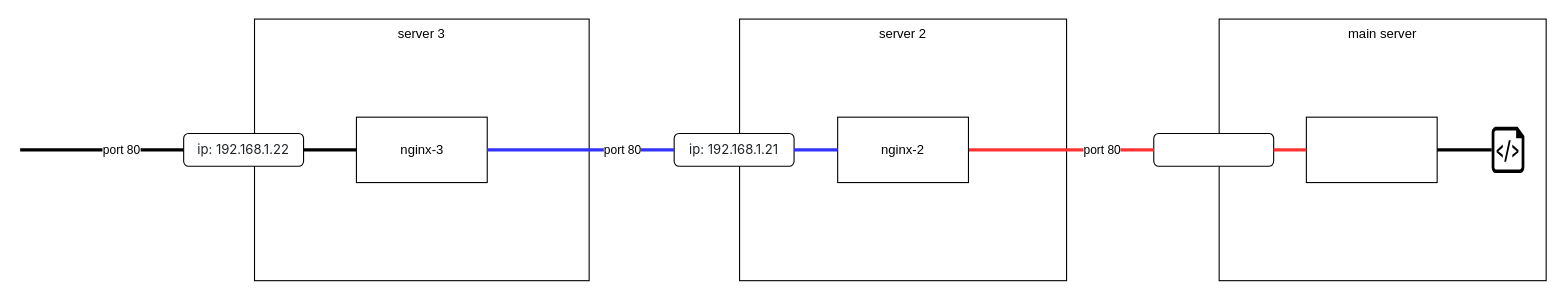
The diagram is 1565 pixels wide and 300 high, and some of its shapes have lost their labels. The box of each missing label's shape, as (x1, y1, x2, y2) in pixels:
ip: 192.168.1.10: (1153, 132, 1274, 166)
mysite: (1491, 126, 1524, 173)
nginx-1: (1305, 116, 1437, 183)
